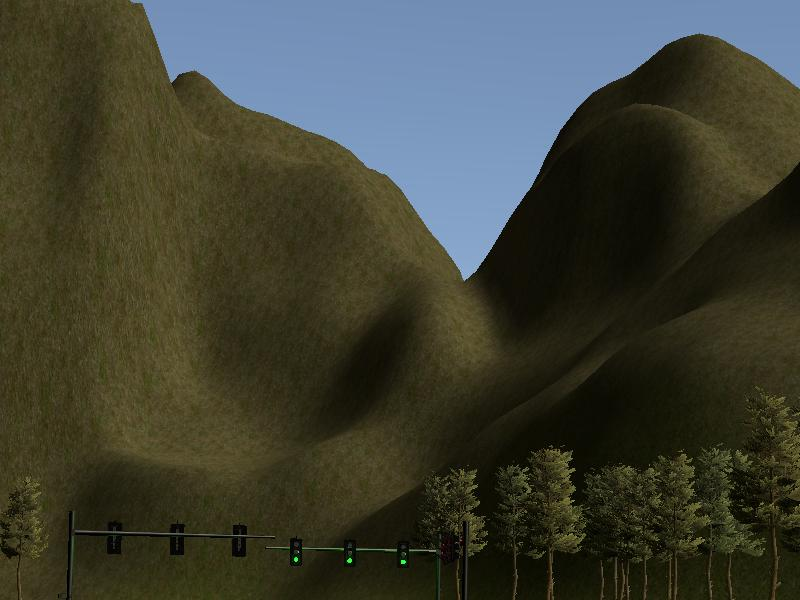Green: (396, 539, 410, 566), (291, 540, 302, 564), (345, 541, 356, 565)
